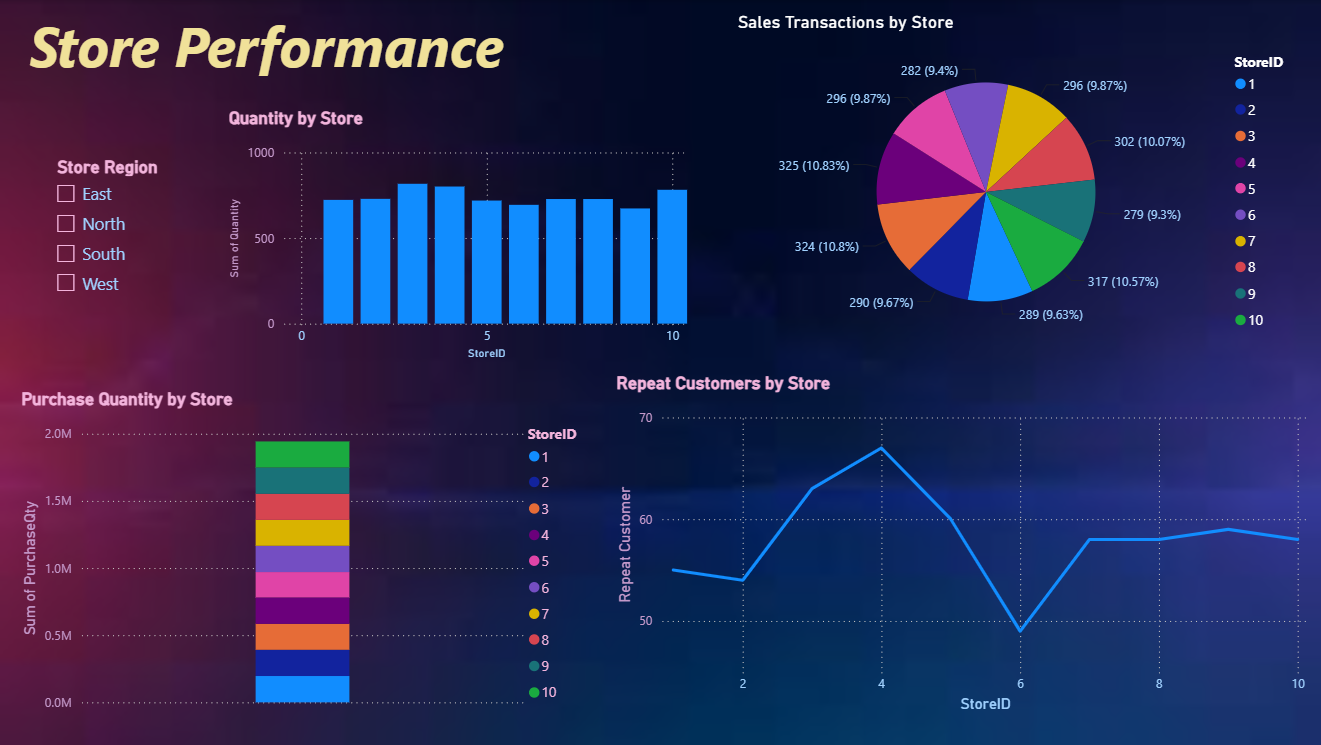

The page's visual inventory and layout, read from the dashboard file:
{"tool":"powerbi","page":{"name":"Store Performance","canvas":[1280,720],"ordinal":1},"visuals":[{"type":"pieChart","title":"Sales Transactions by Store","fields":{"Series":["Store_Dim.StoreID"],"Y":["CountNonNull(Sales_Fact.SaleID)"]},"box":[708.4,10.7,555.3,318.6],"z":0},{"type":"clusteredColumnChart","title":"Quantity by Store","fields":{"Category":["Sales_Fact.StoreID"],"Y":["Sum(Sales_Fact.Quantity)"]},"box":[221.9,103.8,443.7,243.2],"z":1000},{"type":"lineChart","title":"Repeat Customers by Store","fields":{"Category":["Sales_Fact.StoreID"],"Y":["Measures (2).Repeat Customer"]},"box":[595.9,359.8,667.4,327.5],"z":2000},{"type":"slicer","fields":{"Values":["Store_Dim.StoreRegion"]},"box":[48.1,151.3,126.4,176.2],"z":3000},{"type":"lineStackedColumnComboChart","title":"Purchase Quantity by Store","fields":{"Series":["Store_Dim.StoreID"],"Y":["Sum(Inventory_Fact.PurchaseQty)"]},"box":[21.3,375.5,554.7,311.5],"z":4000},{"type":"textbox","box":[24.1,2.4,476.5,83.2],"z":4001}]}

Visuals, with their boxes in screenshot pixels (x1, y1, x2, y2), scaled from the page's 1280x720 canvas onto the 1321x745 screenshot:
"Sales Transactions by Store" pieChart: 731/11/1304/341
"Quantity by Store" clusteredColumnChart: 229/107/687/359
"Repeat Customers by Store" lineChart: 615/372/1304/711
slicer - Store_Dim.StoreRegion: 50/157/180/339
"Purchase Quantity by Store" lineStackedColumnComboChart: 22/389/594/711
textbox: 25/2/517/89
